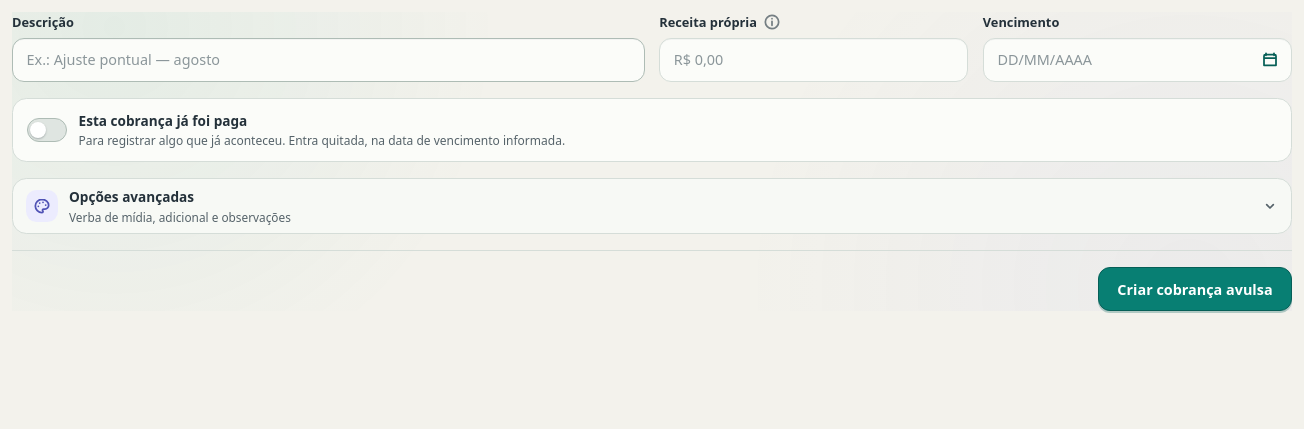
ChargeForm no contexto do cliente › esconde forma de pagamento até marcar como já paga
Check: the dropdown labelled "Forma de pagamento" is not shown
Click the checkbox labelled "já foi paga": click(47, 130) x1=27 y1=118 x2=67 y2=142
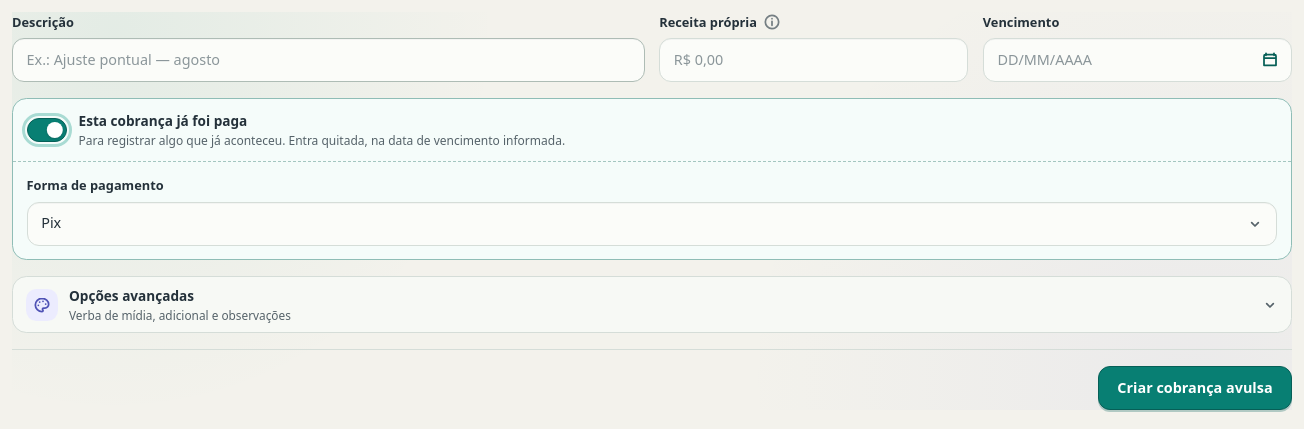
Check: the dropdown named "Forma de pagamento" is shown, box x1=27 y1=202 x2=1277 y2=246
